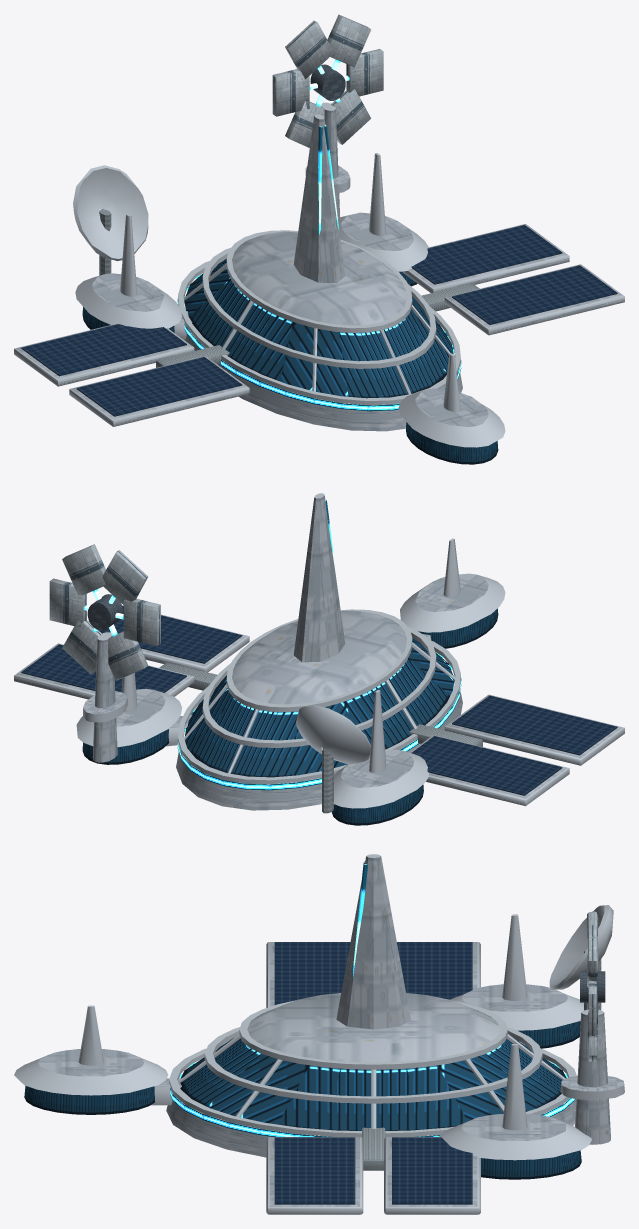
File: alliance_research_outpost_recreated_lod1.glb
3 renders of one model, top to bottom at view 1: azimuth 30°, elevation 25°; view 2: azimuth 150°, elevation 25°; view 3: azimuth 270°, elevation 25°, orthographic. The views are drawn at different scales.
Visible parts, largest first — view 1: alliance_research_outpost_lod_source; view 2: alliance_research_outpost_lod_source; view 3: alliance_research_outpost_lod_source.
Part boxes in pixels (x1,y1,x2,y2): alliance_research_outpost_lod_source: [14, 14, 624, 464]; alliance_research_outpost_lod_source: [14, 493, 624, 825]; alliance_research_outpost_lod_source: [14, 854, 624, 1214].
Size of the model in its own units: 7.55 by 3.37 by 7.32.
Materials: 1 (1 with a texture image).
